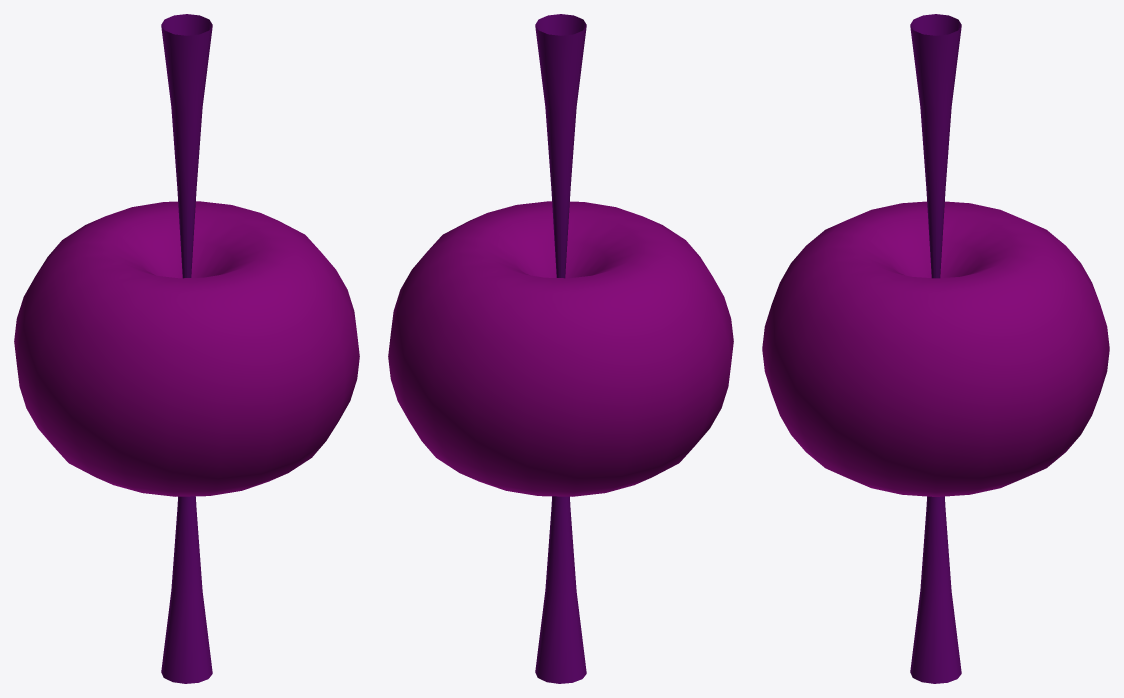
3 views of the same model, side by side, from view 1: azimuth 30°, elevation 25°; view 2: azimuth 150°, elevation 25°; view 3: azimuth 270°, elevation 25° (orthographic).
Visible parts, largest first — view 1: Cone; view 2: Cone; view 3: Cone.
Boxes of the visible parts, x1,y1,x2,y2 form: Cone: (14,14,359,683); Cone: (388,14,733,683); Cone: (762,14,1109,683).
Size of the model in its own units: 0.243 by 0.5 by 0.243.
